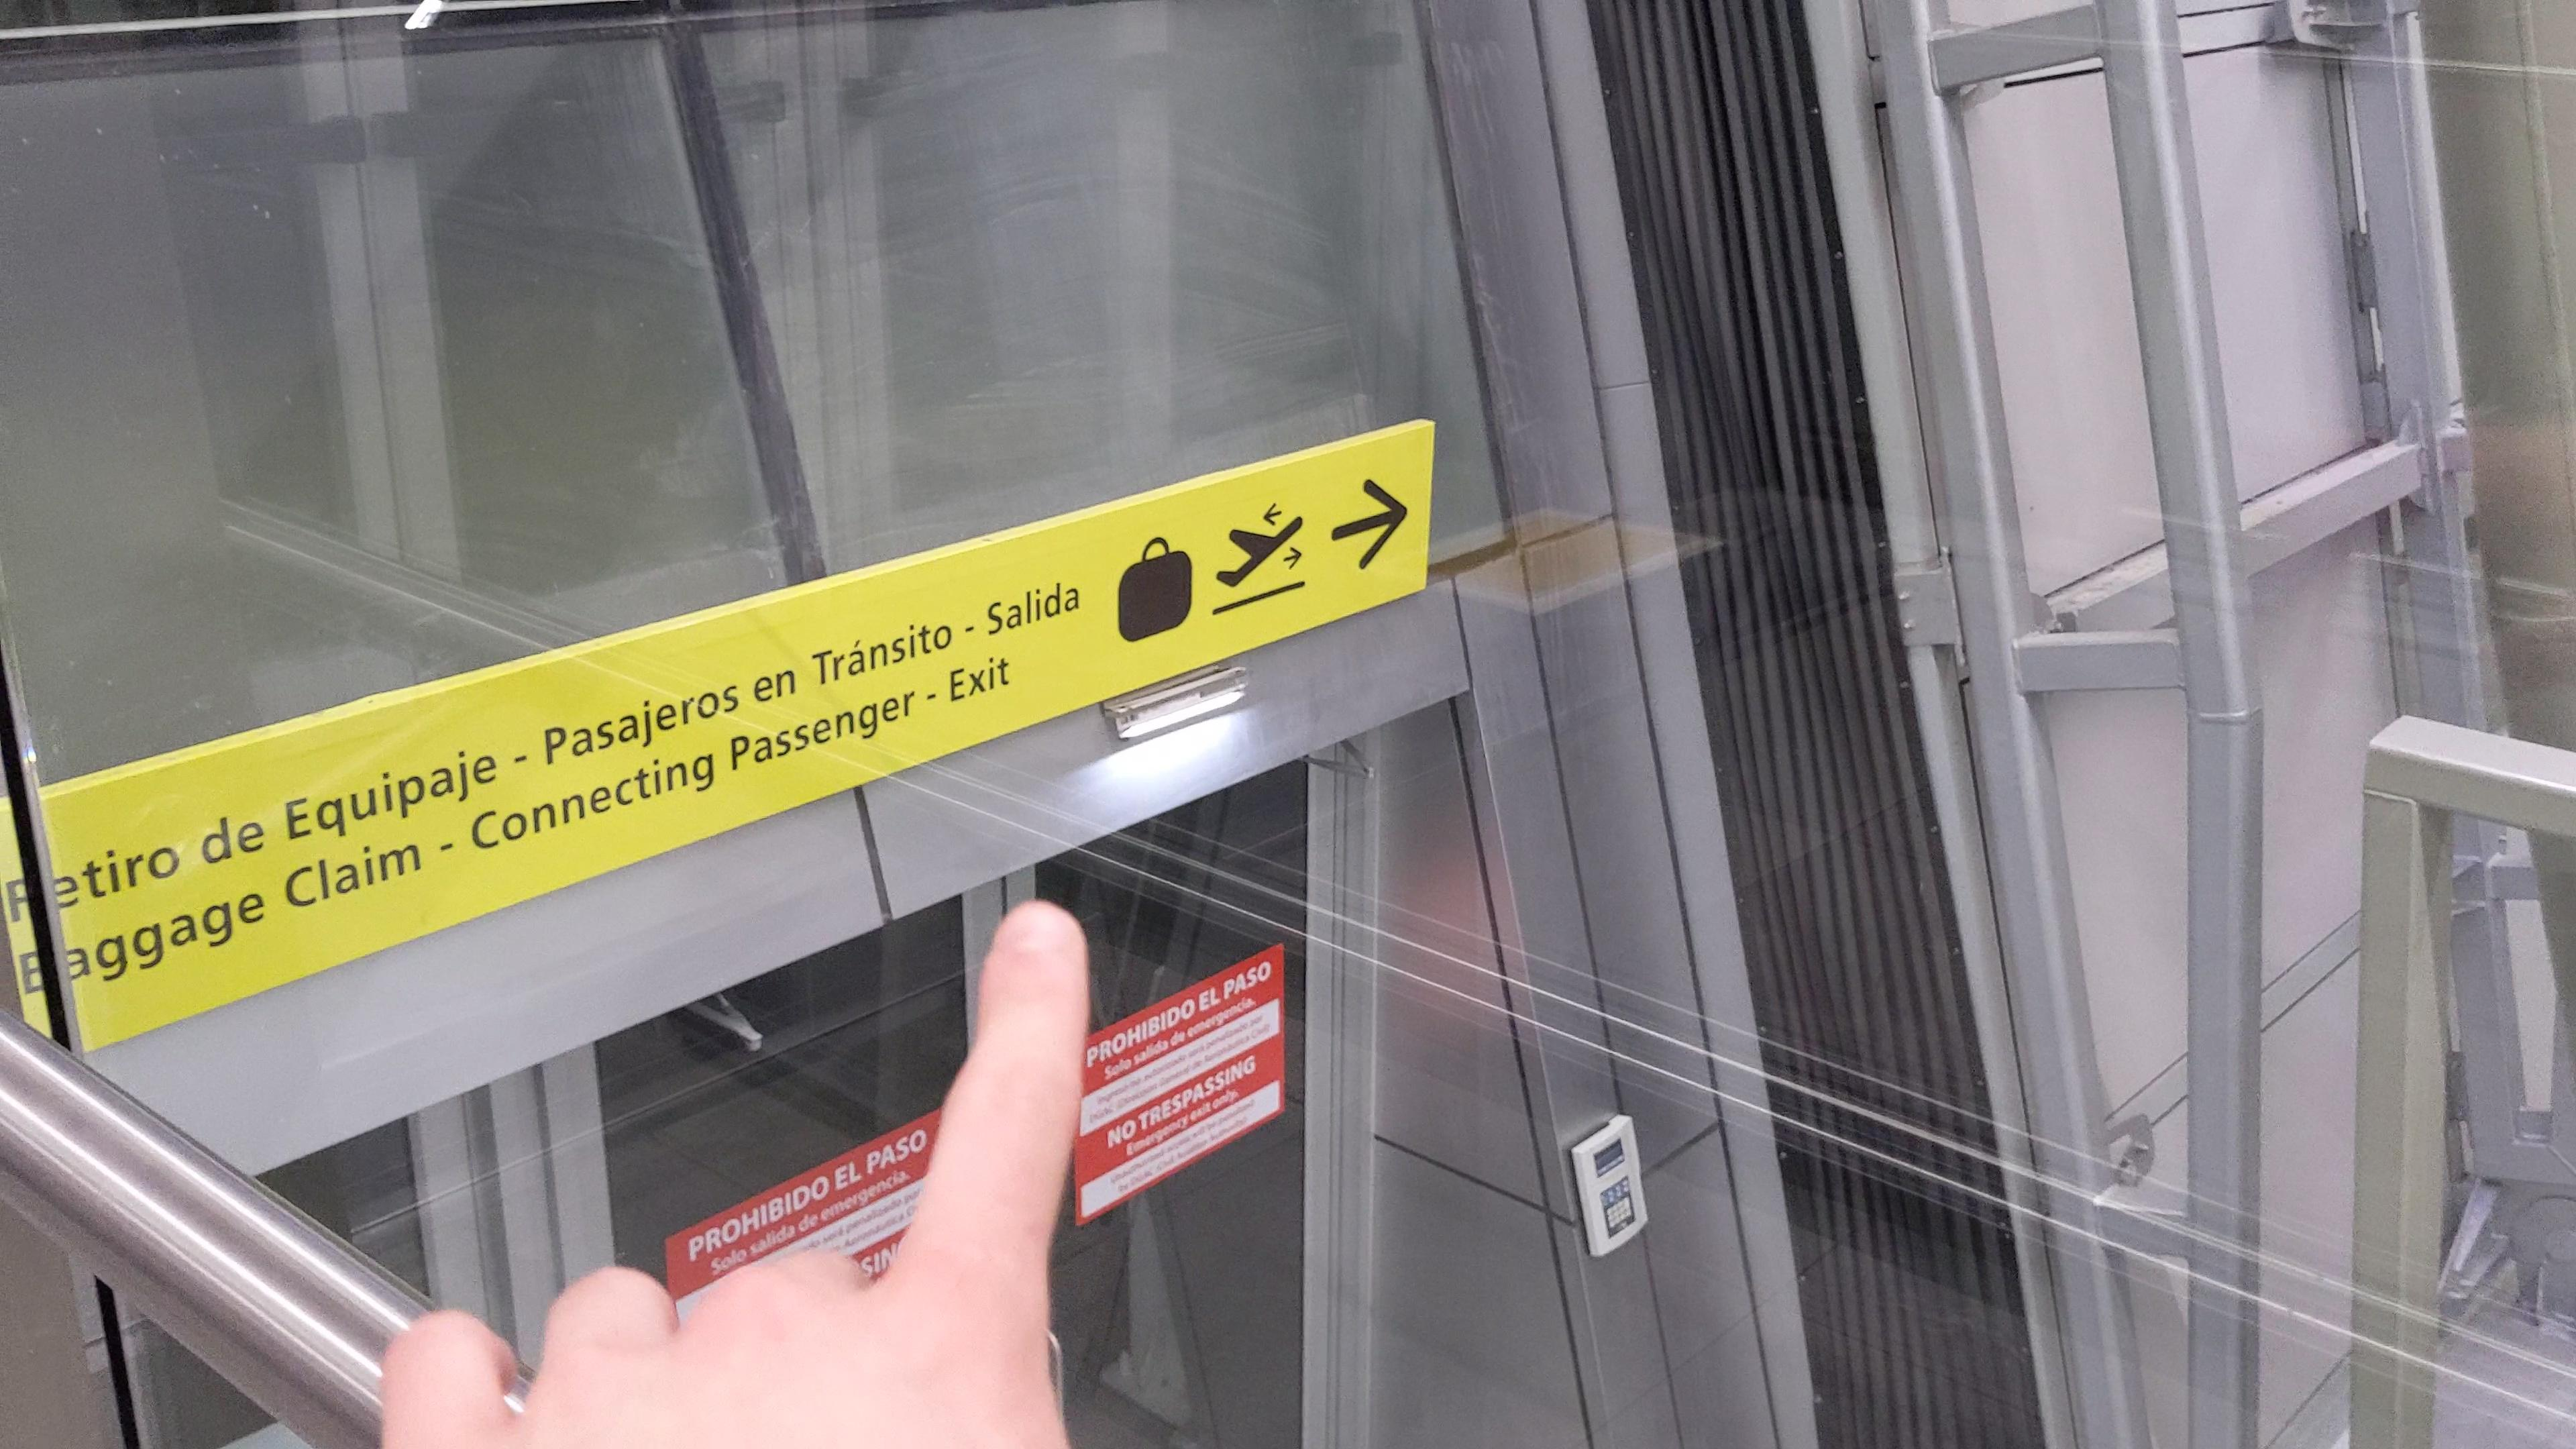airplane symbol: (1212, 497, 1311, 594)
baggage claim: (1111, 533, 1196, 649)
thin right arrow: (1322, 474, 1415, 577)
